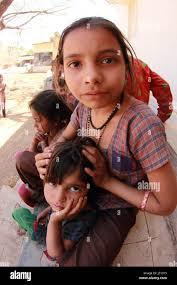Human: (18, 17, 168, 277), (44, 139, 100, 232), (20, 88, 68, 144)
